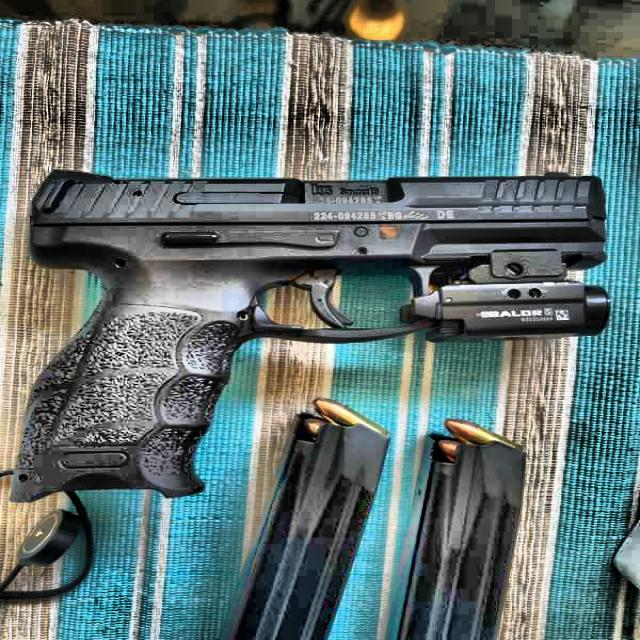HKVP9: (21, 157, 615, 487)
